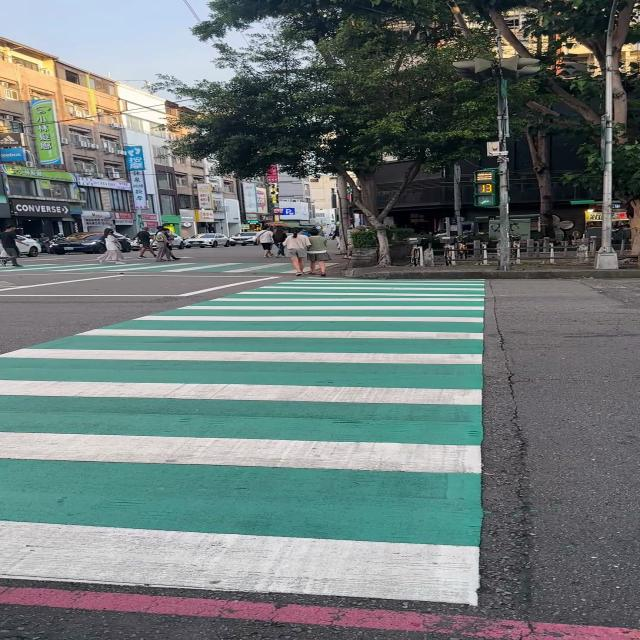car: (51, 232, 106, 255), (185, 232, 229, 248), (15, 235, 42, 258), (117, 236, 130, 249)
crosswalk: (0, 277, 486, 609), (0, 263, 298, 274)
pedestrian: (282, 228, 311, 276), (307, 229, 331, 276), (99, 228, 124, 265), (0, 226, 22, 267), (154, 227, 176, 262), (137, 228, 157, 257), (256, 225, 274, 257), (274, 226, 287, 258)
